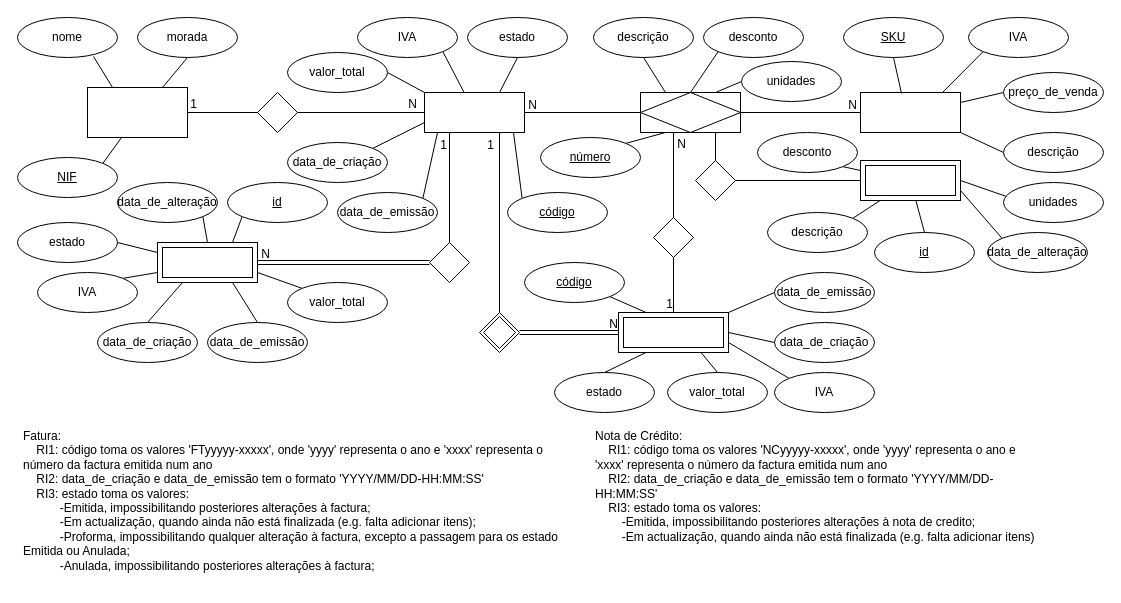
Some shapes in this 1121 by 603 pixel diagram are drawn without their labels. Here are the shapes that lost their labels. From the top down, the centre of each, then its label:
(x=137, y=112): Contribuinte
(x=474, y=112): Fatura
(x=690, y=112): Item
(x=910, y=112): Produto
(x=910, y=180): Alteração Item
(x=207, y=262): Alteração Fatura
(x=673, y=332): Nota de Crédito
